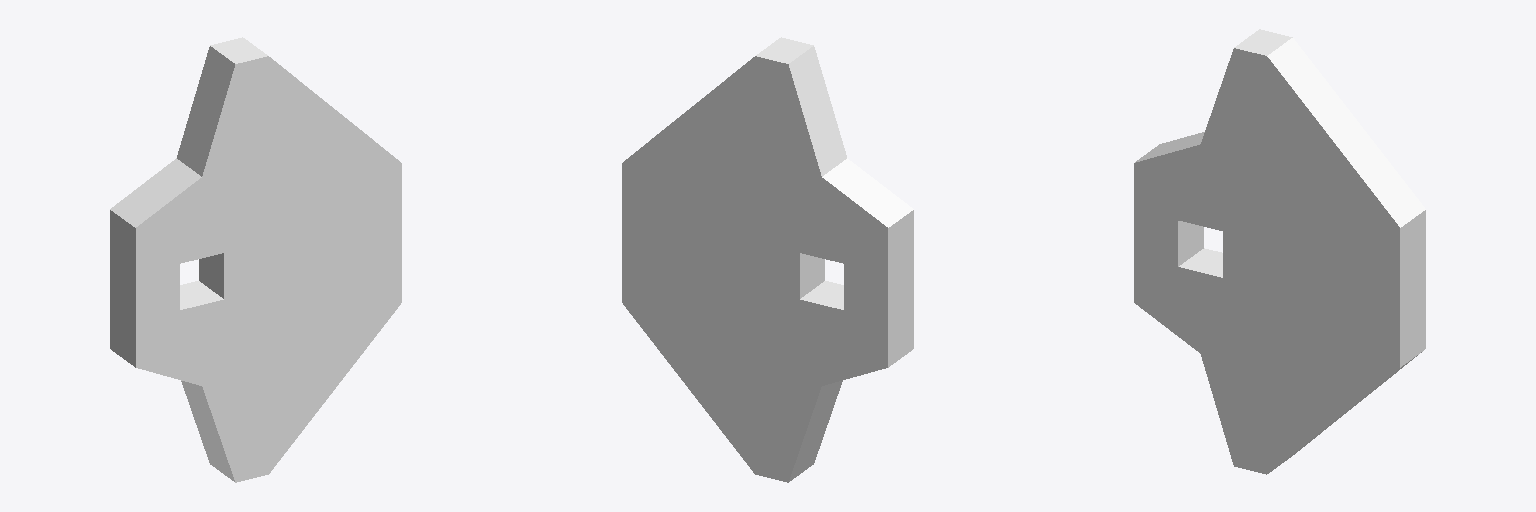
The model's file is seal_left.obj.
3 views of the same model, side by side, from view 1: azimuth 30°, elevation 25°; view 2: azimuth 150°, elevation 25°; view 3: azimuth 330°, elevation 25° (orthographic).
Parts seen in each view (by area): view 1: Cube; view 2: Cube; view 3: Cube.
Part boxes in pixels (left/top/right/bottom): Cube: left=110, top=37, right=401, bottom=482; Cube: left=622, top=37, right=913, bottom=482; Cube: left=1134, top=29, right=1425, bottom=474.
Size of the model in its own units: 12 by 18 by 2.